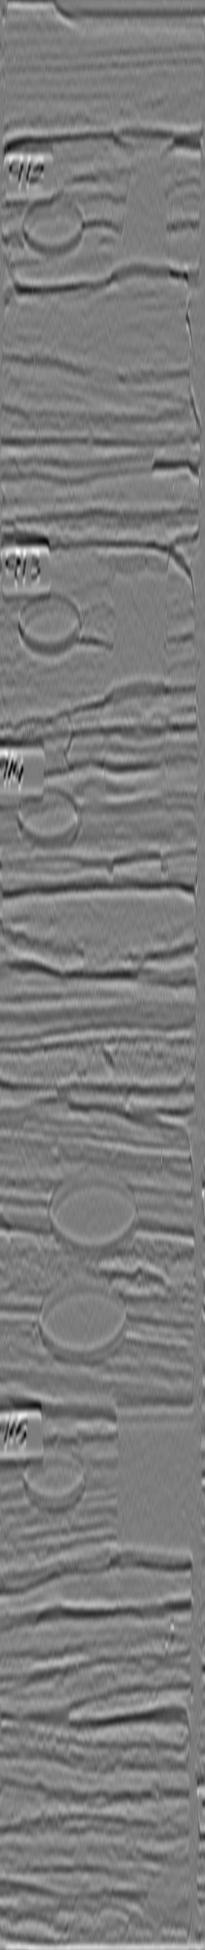hplug: (12, 782, 87, 854), (17, 1443, 93, 1513), (17, 187, 89, 260), (15, 588, 89, 658)
scal: (43, 1164, 140, 1262), (35, 1273, 133, 1370)
vplug: (107, 1385, 185, 1574), (97, 714, 175, 872), (103, 128, 179, 276), (99, 543, 169, 701)
